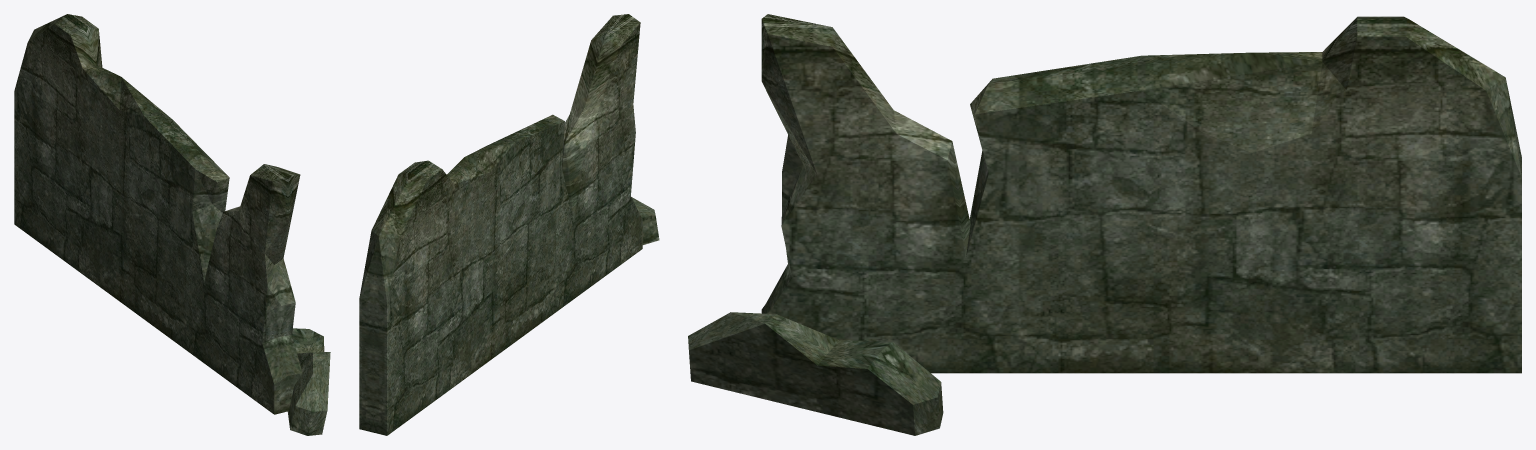
The model's file is thm_dant_jedi_wall_2_l1.fbx.
3 renders of one model, left to right at view 1: azimuth 30°, elevation 25°; view 2: azimuth 150°, elevation 25°; view 3: azimuth 270°, elevation 25°, orthographic. The views are drawn at different scales.
Visible parts, largest first — view 1: mesh_node; view 2: mesh_node; view 3: mesh_node.
Part boxes in pixels (box(x1,y1,x2,y2)): mesh_node: box(14, 14, 330, 435); mesh_node: box(359, 14, 659, 435); mesh_node: box(688, 14, 1521, 435).
Bounding box in the file's own units: 1.72 × 4.2 × 8.78.
